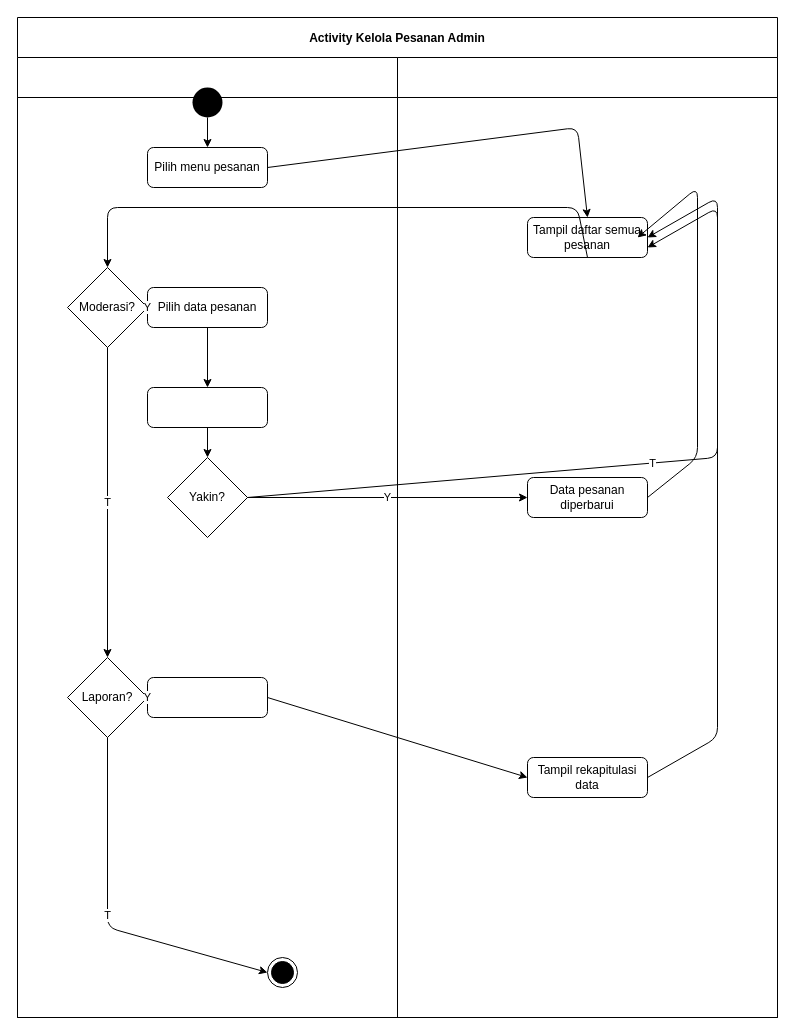
Image size: 795x1035. Some labels were removed from this diagram. The shapes that lost their labels are listed below. From the top down, each one's box as (x1, y1, x2, y2) in pixels, then its label:
(146, 386, 268, 428): Update status / Batalkan
(16, 56, 398, 1018): Admin
(396, 56, 778, 1018): Sistem
(146, 676, 268, 718): Filter data transaksi
